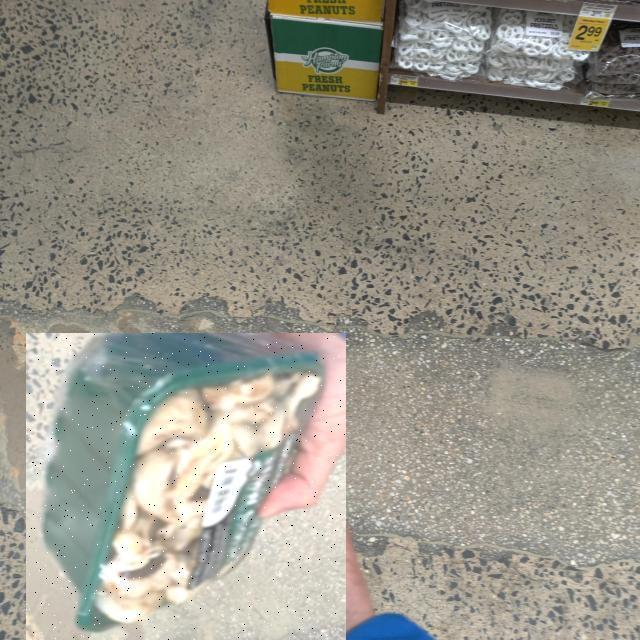Mushroom: (26, 333, 346, 640)
